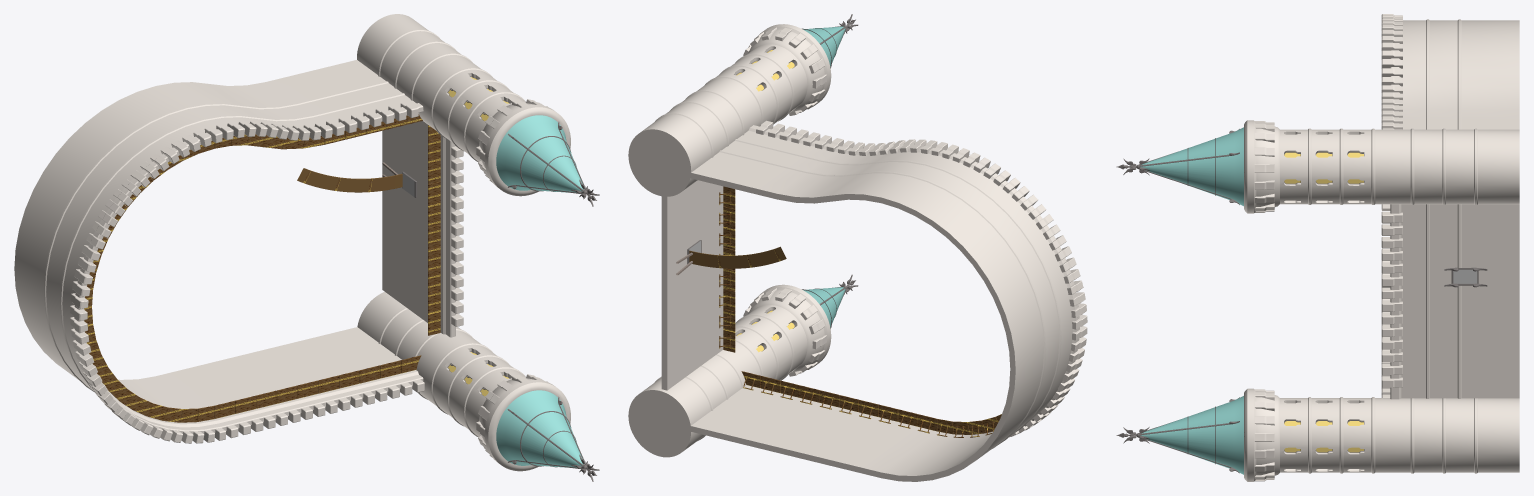
File: Walls.fbx
3 renders of one model, left to right at view 1: azimuth 30°, elevation 25°; view 2: azimuth 150°, elevation 25°; view 3: azimuth 270°, elevation 25°, orthographic. The views are drawn at different scales.
Visible parts, largest first — view 1: walls; view 2: walls; view 3: walls.
Part boxes in pixels (x1,y1,x2,y2): walls: (14, 14, 599, 481); walls: (628, 14, 1087, 481); walls: (1116, 14, 1519, 481).
Size of the model in its own units: 10209 by 8350 by 8652.
